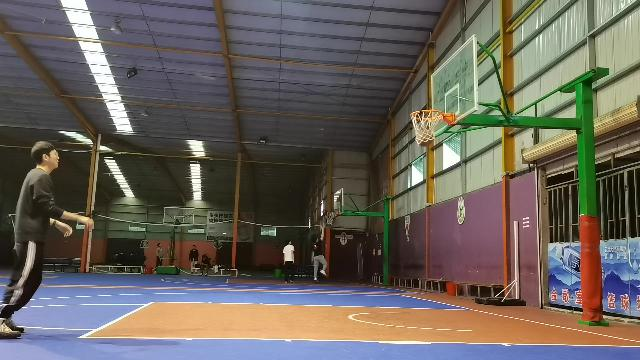ball: (416, 130, 432, 144)
basket: (409, 109, 443, 145), (324, 209, 336, 224)
